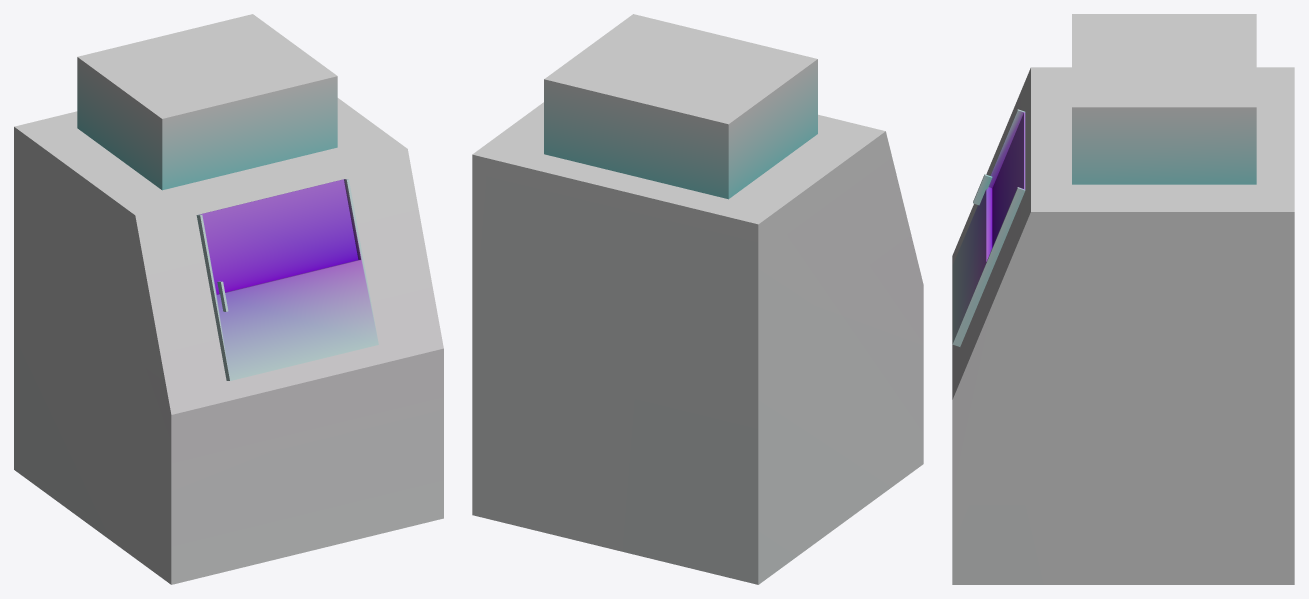
The picture shows the model from 3 angles, left to right: view 1: azimuth 30°, elevation 25°; view 2: azimuth 150°, elevation 25°; view 3: azimuth 270°, elevation 25°; orthographic projection. The views are drawn at different scales.
Parts seen in each view (by area): view 1: body, raised_block, panel; view 2: body, raised_block; view 3: body, raised_block, panel.
Boxes of the visible parts, x1,y1,x2,y2 form: body: (14,98,443,584); raised_block: (77,14,337,190); panel: (196,179,378,380); body: (472,102,923,584); raised_block: (544,14,817,199); body: (952,67,1294,584); raised_block: (1072,14,1256,184); panel: (952,109,1025,346).
Size of the model in its own units: 0.619 by 0.9 by 0.619.
